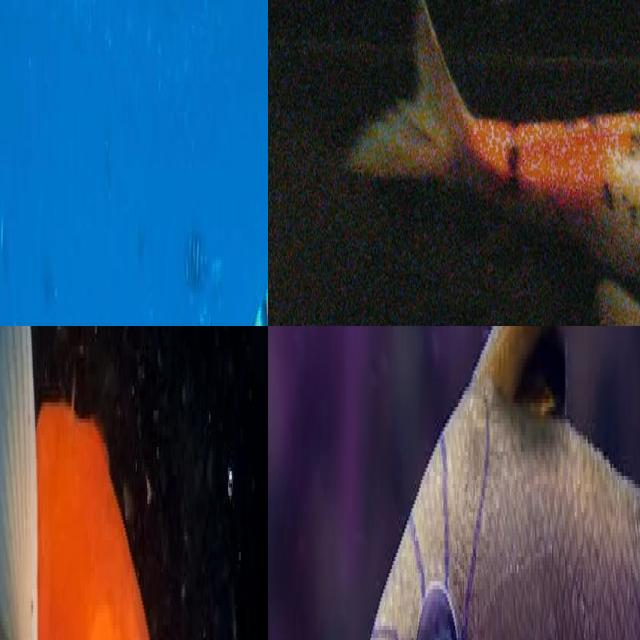fish: (0, 0, 268, 326), (268, 99, 352, 326)
